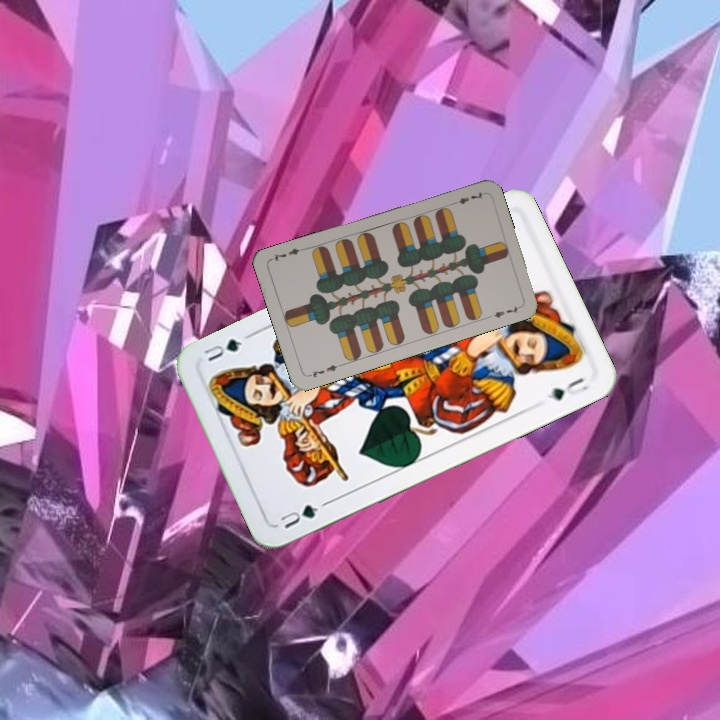E7: (447, 187, 486, 208), (304, 360, 344, 380)
GU: (276, 498, 330, 532)
